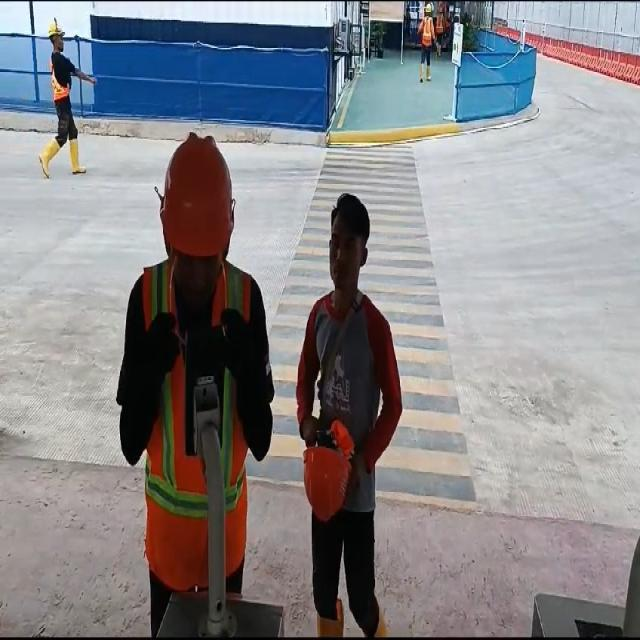gloves: (143, 316, 180, 376), (220, 315, 250, 370)
helmet: (160, 135, 236, 256), (299, 431, 351, 516), (45, 16, 65, 32)
safety_vest: (134, 254, 245, 585), (421, 18, 433, 45)
